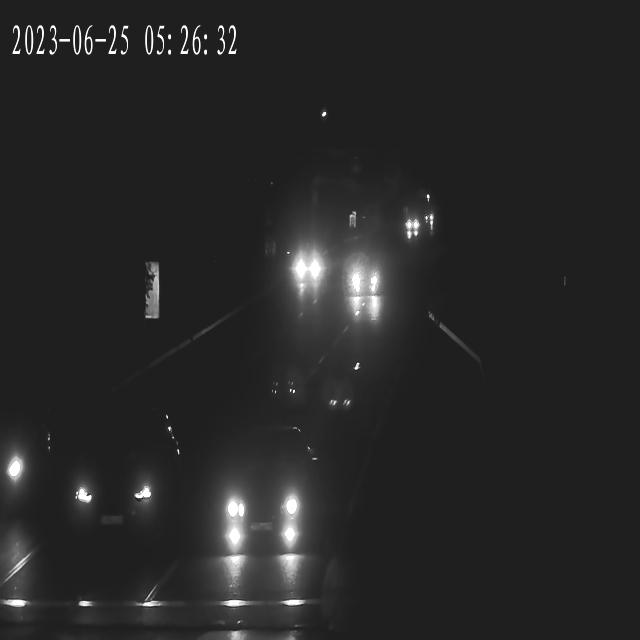Car: (71, 418, 184, 553), (0, 396, 51, 508), (345, 259, 384, 313), (294, 249, 327, 295), (404, 217, 422, 240)
